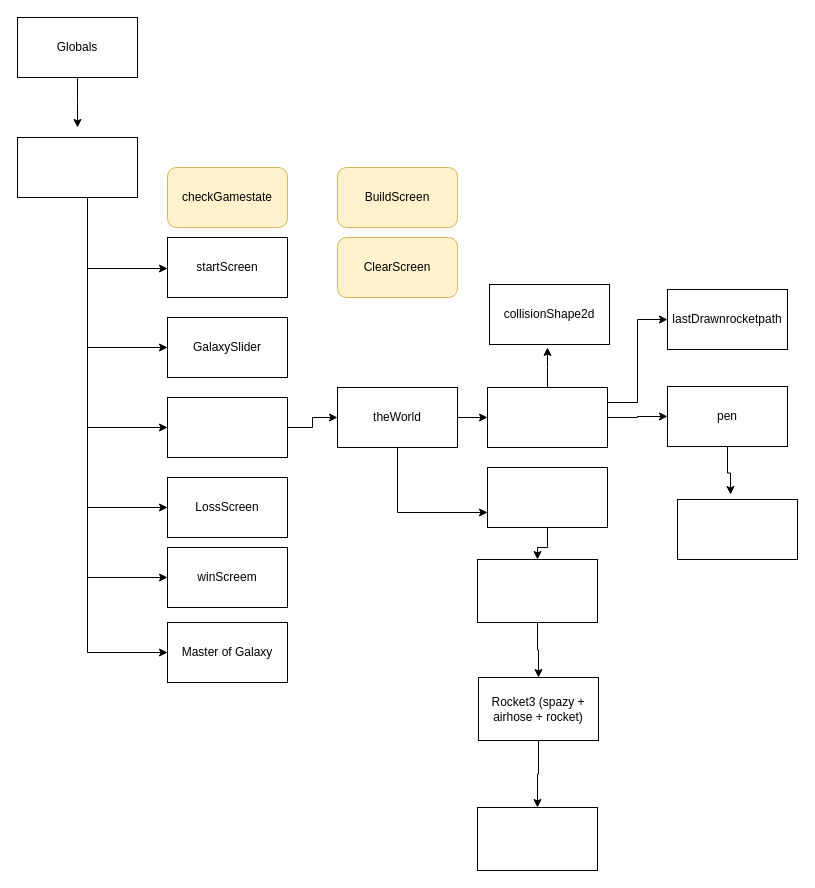
This 815x888 diagram has some shape labels left out. Here are the shapes that lost their labels. From the top down, the centre of each, then its label:
At [77,167]: "startWorld".
At [227,427]: "levelBuilder".
At [547,417]: "tekenVel".
At [547,497]: "RocketPath".
At [737,529]: "Path2d".
At [537,590]: "PathFollow2D".
At [537,838]: "Rocket (sprite)".
